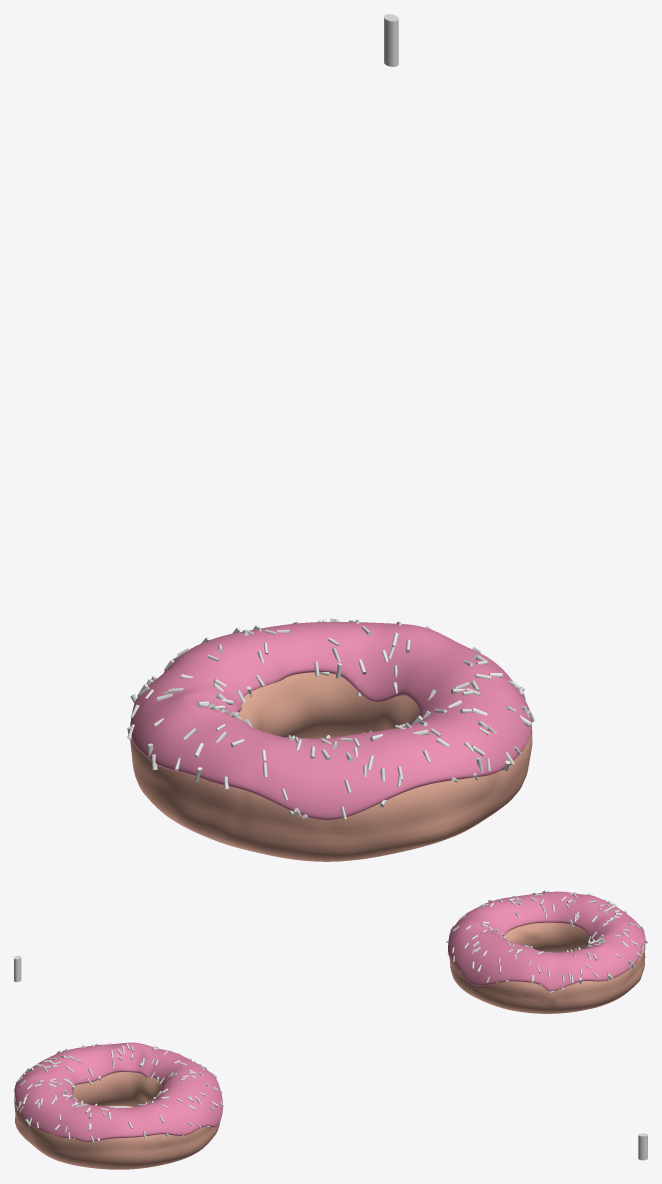
File: donut feio.fbx
3 renders of one model, top to bottom at view 1: azimuth 30°, elevation 25°; view 2: azimuth 150°, elevation 25°; view 3: azimuth 270°, elevation 25°, orthographic. The views are drawn at different scales.
Parts seen in each view (by area): view 1: Ice, donut; view 2: Ice, donut, Cylinder; view 3: Ice, donut, Cylinder.
Boxes of the visible parts, x1=… form: Ice: x1=130, y1=621, x2=531, y2=819; donut: x1=130, y1=672, x2=532, y2=861; Ice: x1=448, y1=891, x2=645, y2=991; donut: x1=449, y1=922, x2=645, y2=1013; Cylinder: x1=14, y1=955, x2=21, y2=982; Ice: x1=14, y1=1042, x2=222, y2=1141; donut: x1=14, y1=1072, x2=220, y2=1169; Cylinder: x1=638, y1=1133, x2=647, y2=1160.
Size of what is drawn, in the model's own units: 443 by 158 by 623.
